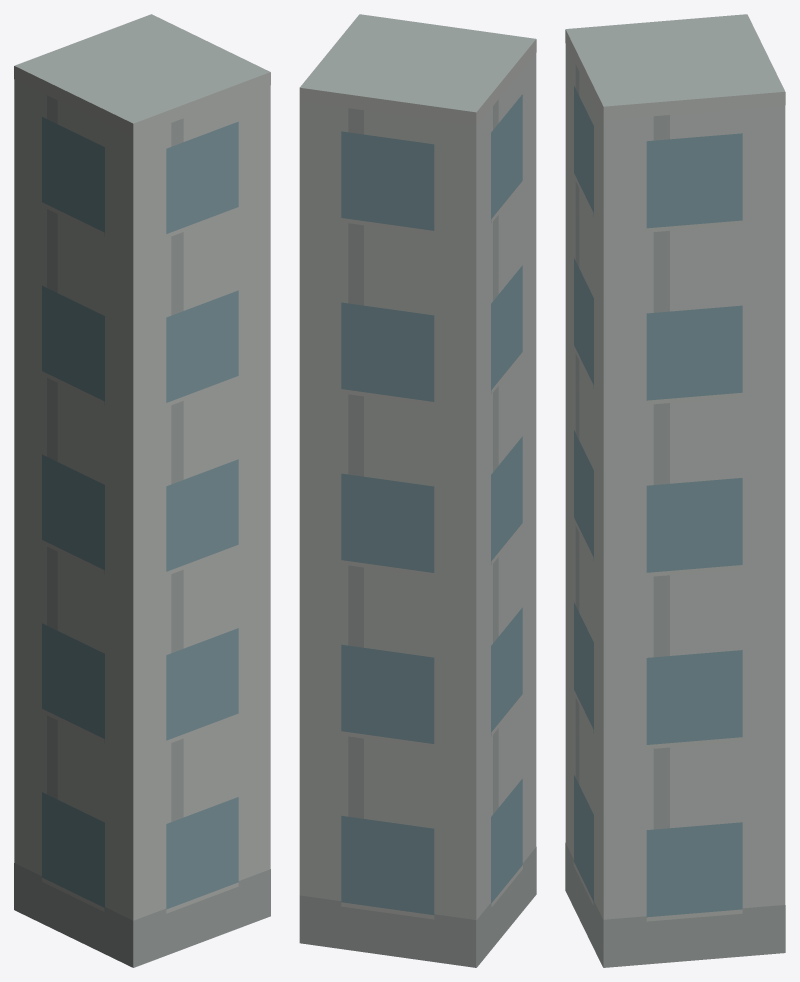
The model's file is survey-upis-32639915.glb.
3 views of the same model, side by side, from view 1: azimuth 30°, elevation 25°; view 2: azimuth 150°, elevation 25°; view 3: azimuth 270°, elevation 25° (orthographic). The views are drawn at different scales.
Visible parts, largest first — view 1: survey-upis-32639915.tmp; view 2: survey-upis-32639915.tmp; view 3: survey-upis-32639915.tmp.
Boxes of the visible parts, x1,y1,x2,y2 form: survey-upis-32639915.tmp: [14, 14, 270, 967]; survey-upis-32639915.tmp: [299, 14, 536, 967]; survey-upis-32639915.tmp: [565, 14, 785, 967].
Bounding box in the file's own units: 3.53 × 15.25 × 3.54.
